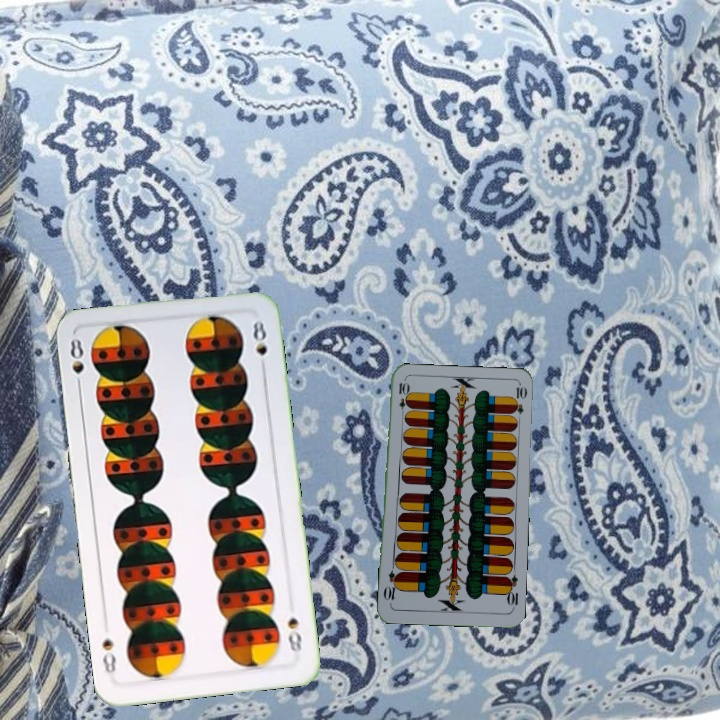E10: (502, 571, 521, 612), (395, 378, 409, 419)
S8: (66, 334, 87, 393), (283, 613, 305, 660)
